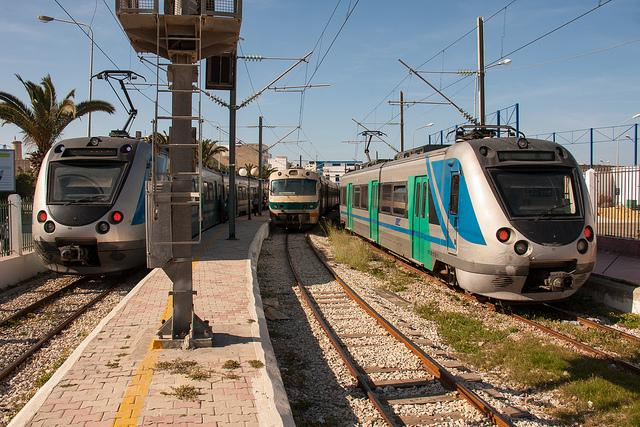Train: (29, 69, 271, 275), (332, 136, 603, 308), (268, 170, 334, 232)
